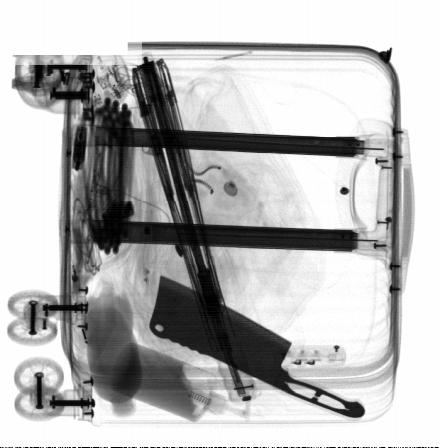Knife: (149, 275, 366, 418)
